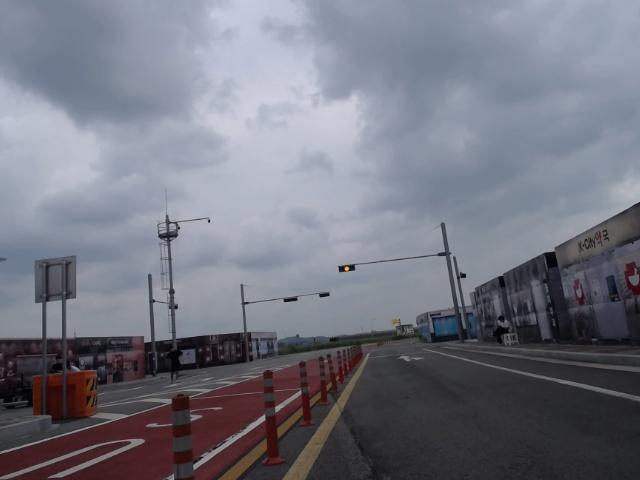orange_3: (338, 264, 355, 272)
